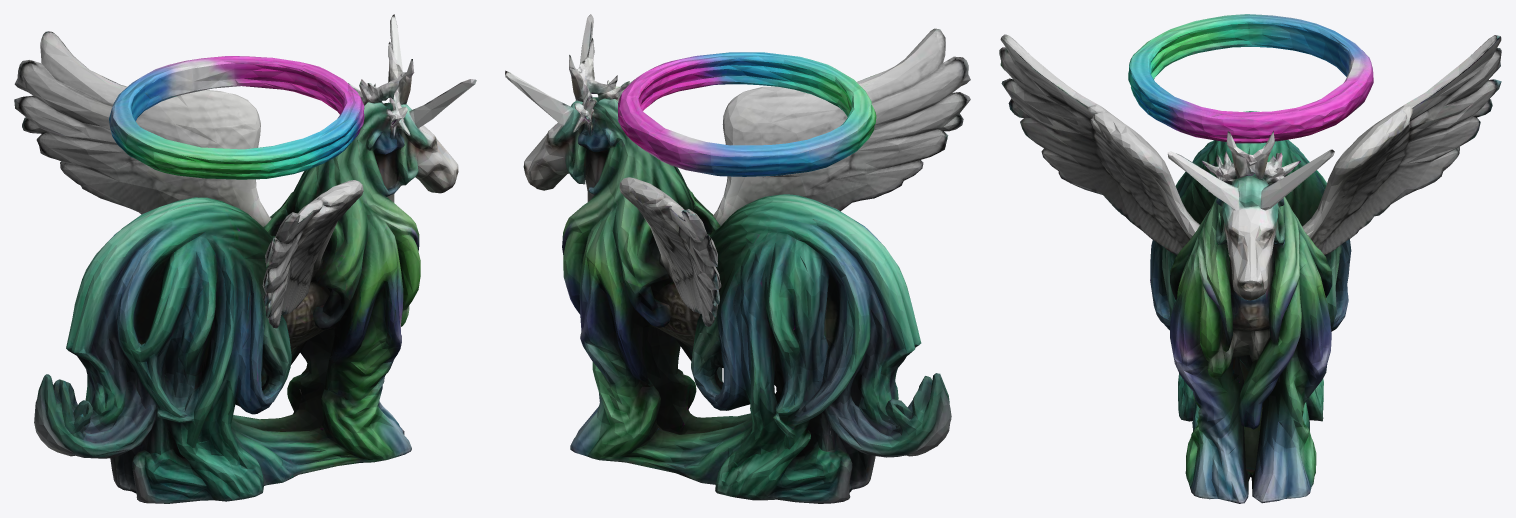
Rendered from auroracorn__auroraSovereign.glb.
3 renders of one model, left to right at view 1: azimuth 30°, elevation 25°; view 2: azimuth 150°, elevation 25°; view 3: azimuth 270°, elevation 25°, orthographic.
Parts seen in each view (by area): view 1: world; view 2: world; view 3: world.
Part boxes in pixels (box(x1,y1,x2,y2)): world: box(14, 14, 476, 503); world: box(505, 14, 970, 503); world: box(999, 14, 1501, 503).
Size of the model in its own units: 0.9608 by 0.8257 by 1.
1 material, 1 textured.
